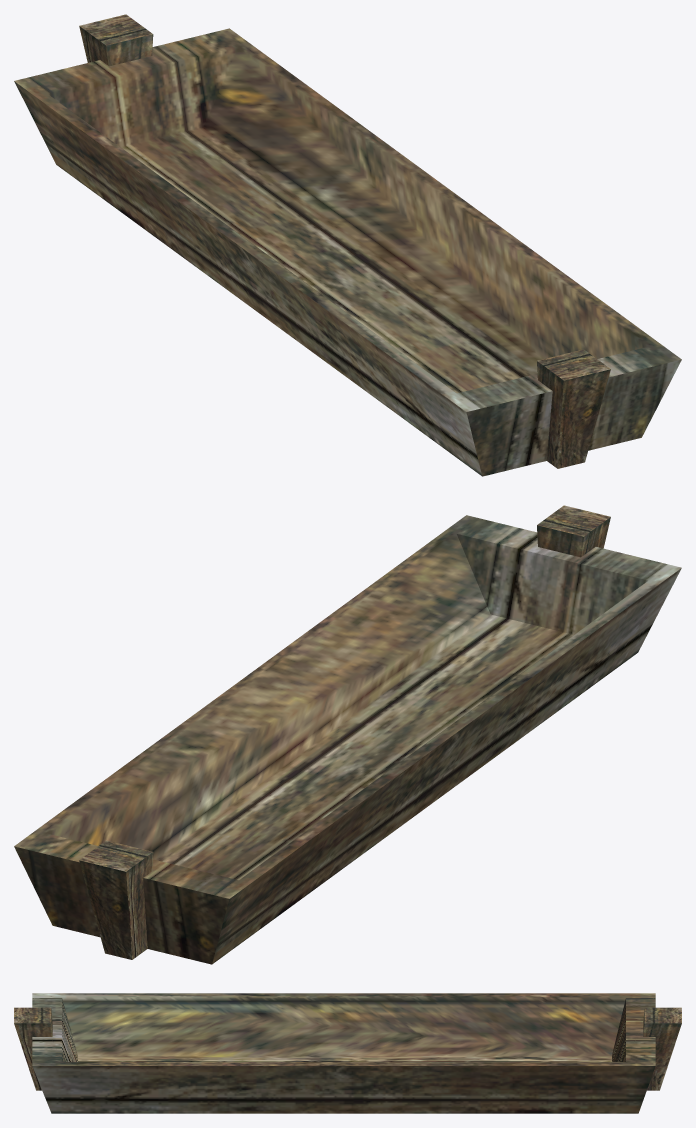
File: korito1.glb
The picture shows the model from 3 angles, top to bottom: view 1: azimuth 30°, elevation 25°; view 2: azimuth 150°, elevation 25°; view 3: azimuth 270°, elevation 25°; orthographic projection. The views are drawn at different scales.
Parts seen in each view (by area): view 1: korito1; view 2: korito1; view 3: korito1.
Part boxes in pixels (x1,y1,x2,y2): korito1: (14,14,681,476); korito1: (14,505,681,964); korito1: (14,993,681,1113).
Size of the model in its own units: 0.55 by 0.2504 by 2.14.
Materials: 1 (1 with a texture image).
